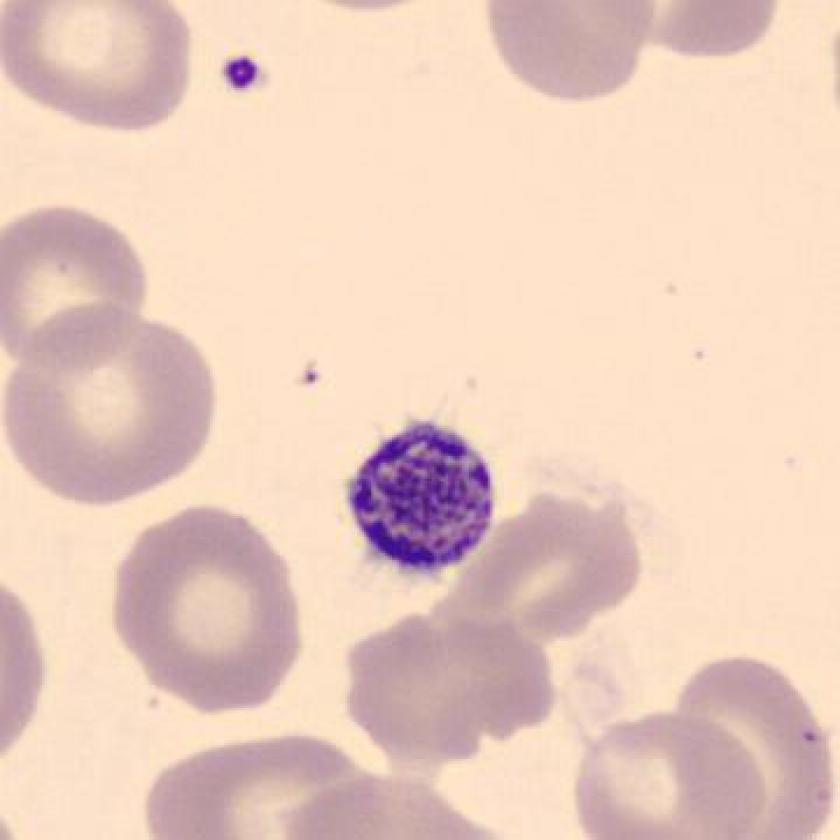platelets: (330, 406, 512, 584)
